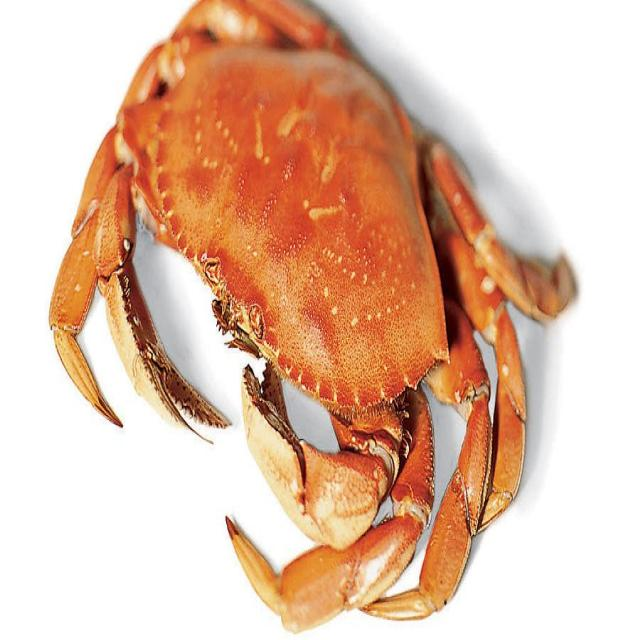crab: (107, 59, 466, 502)
